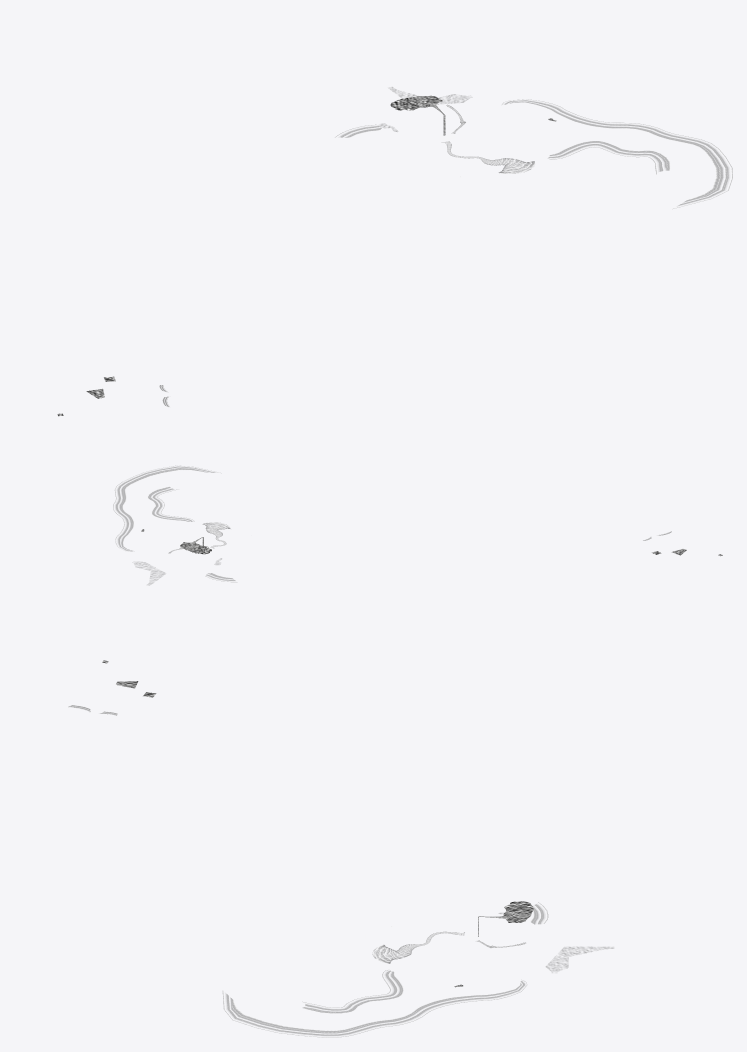
The model's file is wuhu-sea.glb.
3 views of the same model, one above another, from view 1: azimuth 30°, elevation 25°; view 2: azimuth 150°, elevation 25°; view 3: azimuth 270°, elevation 25° (orthographic). The views are drawn at different scales.
Visible parts, largest first — view 1: polygon2, polygon0, polygon3, polygon27; view 2: polygon2, polygon0, polygon3, polygon27, polygon19, polygon13, polygon1; view 3: polygon2, polygon0, polygon3, polygon27, polygon1.
Boxes of the visible parts, x1,y1,x2,y2 form: polygon2: [649, 134, 732, 208]; polygon0: [548, 119, 672, 159]; polygon3: [649, 136, 732, 204]; polygon27: [442, 141, 534, 173]; polygon2: [115, 466, 213, 497]; polygon0: [113, 497, 193, 524]; polygon3: [115, 467, 213, 497]; polygon27: [203, 522, 230, 548]; polygon19: [132, 548, 221, 585]; polygon13: [180, 537, 211, 554]; polygon1: [113, 497, 193, 524]; polygon2: [223, 991, 373, 1037]; polygon0: [343, 970, 449, 1028]; polygon3: [223, 991, 372, 1037]; polygon27: [372, 931, 464, 963]; polygon1: [344, 970, 447, 1028].
Size of what is drawn, in the model's own units: 45148 by 1350 by 35329.
Materials: 9 (9 with a texture image).
